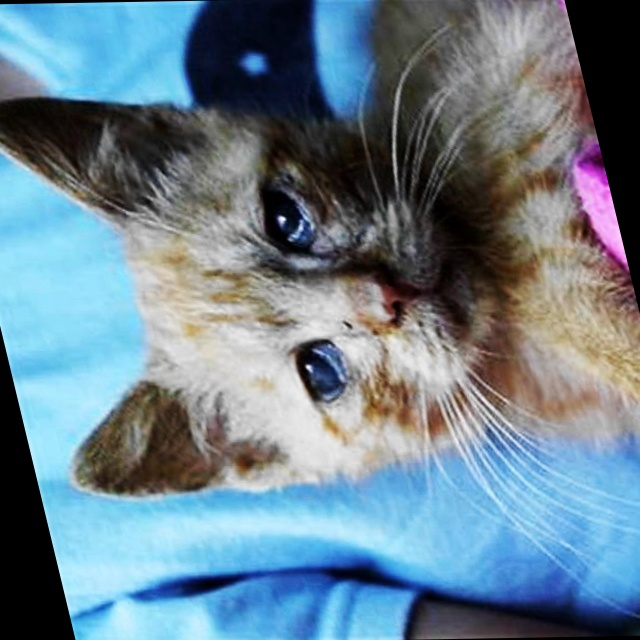eye_infection: (247, 171, 322, 254), (284, 341, 358, 410)
